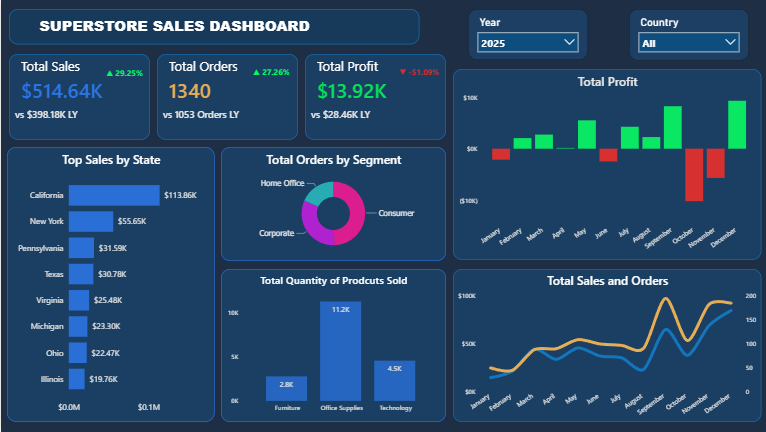

The page's visual inventory and layout, read from the dashboard file:
{"tool":"powerbi","page":{"name":"Executive Page","canvas":[1280,720],"ordinal":0},"visuals":[{"type":"textbox","box":[13.6,15.2,684,59.1],"z":0},{"type":"lineChart","title":"Total Sales and Orders ","fields":{"Category":["Dim Date.Date.Variation.Date Hierarchy.Year","Dim Date.Date.Variation.Date Hierarchy.Quarter","Dim Date.Date.Variation.Date Hierarchy.Month"],"Y":["Sum(Fact Orders.Sales)"],"Y2":["Count(Fact Orders.Order ID)"]},"box":[753.7,448.9,514.1,254.8],"z":1000},{"type":"clusteredColumnChart","title":"Total Profit","fields":{"Y":["Sum(Fact Orders.Profit)"],"Category":["Dim Date.Date.Variation.Date Hierarchy.Year","Dim Date.Date.Variation.Date Hierarchy.Quarter","Dim Date.Date.Variation.Date Hierarchy.Month"]},"box":[753.7,115.3,514.1,318.5],"z":2000},{"type":"donutChart","title":"Total Orders by Segment","fields":{"Category":["Dim Customers.Segment"],"Y":["Fact Orders.Total Orders"]},"box":[367,244.2,374.6,189.6],"z":3000},{"type":"columnChart","title":"Total Quantity of Prodcuts Sold","fields":{"Category":["Dim Products.Category","Dim Products.Sub Category"],"Y":["Sum(Fact Orders.Quantity)"]},"box":[367,448.9,374.6,254.8],"z":4000},{"type":"barChart","title":"Top Sales by State","fields":{"Category":["Dim Locations.State"],"Y":["Sum(Fact Orders.Sales)"]},"box":[10.6,244.2,345.8,458],"z":5000},{"type":"slicer","title":"Quarter","fields":{"Values":["Dim Locations.Country"]},"box":[1046.4,15.2,200.2,86.4],"z":6000},{"type":"slicer","title":"Quarter","fields":{"Values":["Dim Date.Date.Variation.Date Hierarchy.Year"]},"box":[778,15.2,200.2,84.9],"z":7000},{"type":"cardVisual","title":"Total Profit","fields":{"Data":["Fact Orders.Total Sales"]},"box":[13.6,89.5,235.1,142.6],"z":8000},{"type":"cardVisual","title":"Total Profit","fields":{"Data":["Fact Orders.Total Orders"]},"box":[259.3,89.5,235.1,142.6],"z":9000},{"type":"cardVisual","title":"Total Profit","fields":{"Data":["Fact Orders.Total Profit"]},"box":[506.5,89.5,235.1,142.6],"z":10000},{"type":"shape","box":[172.9,89.5,65.2,60.7],"z":11000},{"type":"shape","box":[406.4,81.9,88,74.3],"z":12000},{"type":"shape","box":[653.6,81.9,88,74.3],"z":13000}]}

Visuals, with their boxes in screenshot pixels (x1, y1, x2, y2), scaled from the page's 1280x720 canvas onto the 766x432 screenshot:
textbox: bbox=[8, 9, 417, 45]
"Total Sales and Orders " lineChart: bbox=[451, 269, 759, 422]
"Total Profit" clusteredColumnChart: bbox=[451, 69, 759, 260]
"Total Orders by Segment" donutChart: bbox=[220, 147, 444, 260]
"Total Quantity of Prodcuts Sold" columnChart: bbox=[220, 269, 444, 422]
"Top Sales by State" barChart: bbox=[6, 147, 213, 421]
"Quarter" slicer: bbox=[626, 9, 746, 61]
"Quarter" slicer: bbox=[466, 9, 585, 60]
"Total Profit" cardVisual: bbox=[8, 54, 149, 139]
"Total Profit" cardVisual: bbox=[155, 54, 296, 139]
"Total Profit" cardVisual: bbox=[303, 54, 444, 139]
shape: bbox=[103, 54, 142, 90]
shape: bbox=[243, 49, 296, 94]
shape: bbox=[391, 49, 444, 94]
